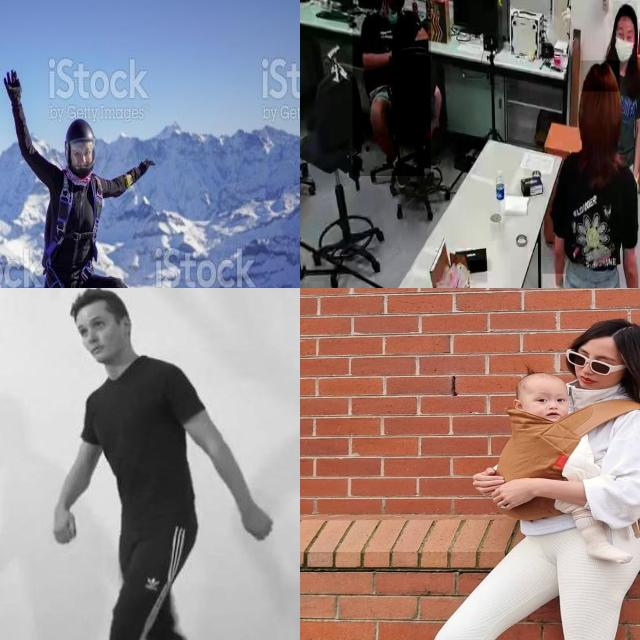Harness: (44, 173, 101, 288)
No_Ear-Protection: (124, 318, 144, 342)
No_Glasses: (88, 311, 109, 333)
face_mask: (612, 28, 635, 61), (376, 2, 402, 26)
face_nomask: (70, 331, 120, 362)
hand_glove: (542, 274, 567, 288)
hand_noglove: (222, 495, 284, 552), (46, 486, 91, 555)
head_nohelmet: (580, 61, 620, 92), (612, 1, 638, 22)
person: (45, 288, 274, 640), (544, 54, 640, 288), (352, 0, 431, 176), (606, 0, 640, 166)
